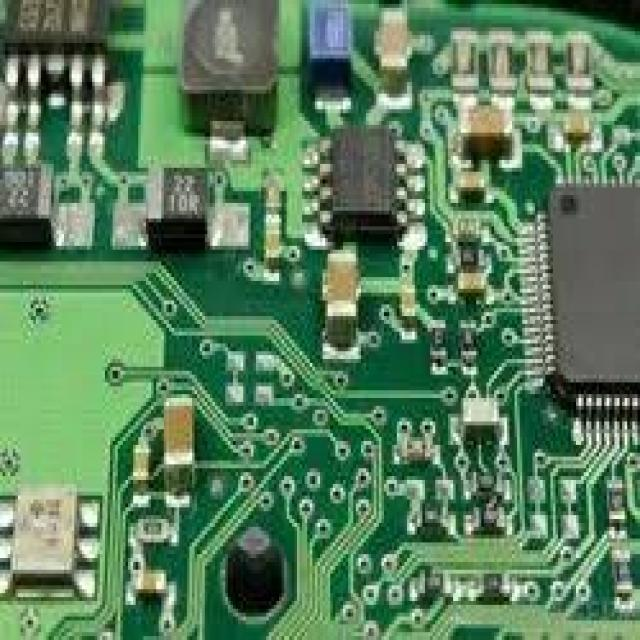pcb: (0, 0, 637, 636), (0, 277, 166, 636), (177, 0, 279, 137), (10, 480, 77, 581), (143, 160, 210, 250)
